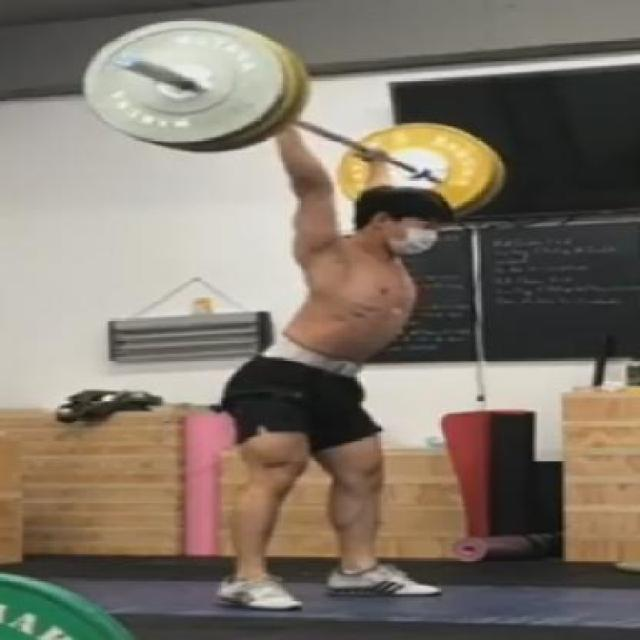barbell: (76, 13, 311, 161)
